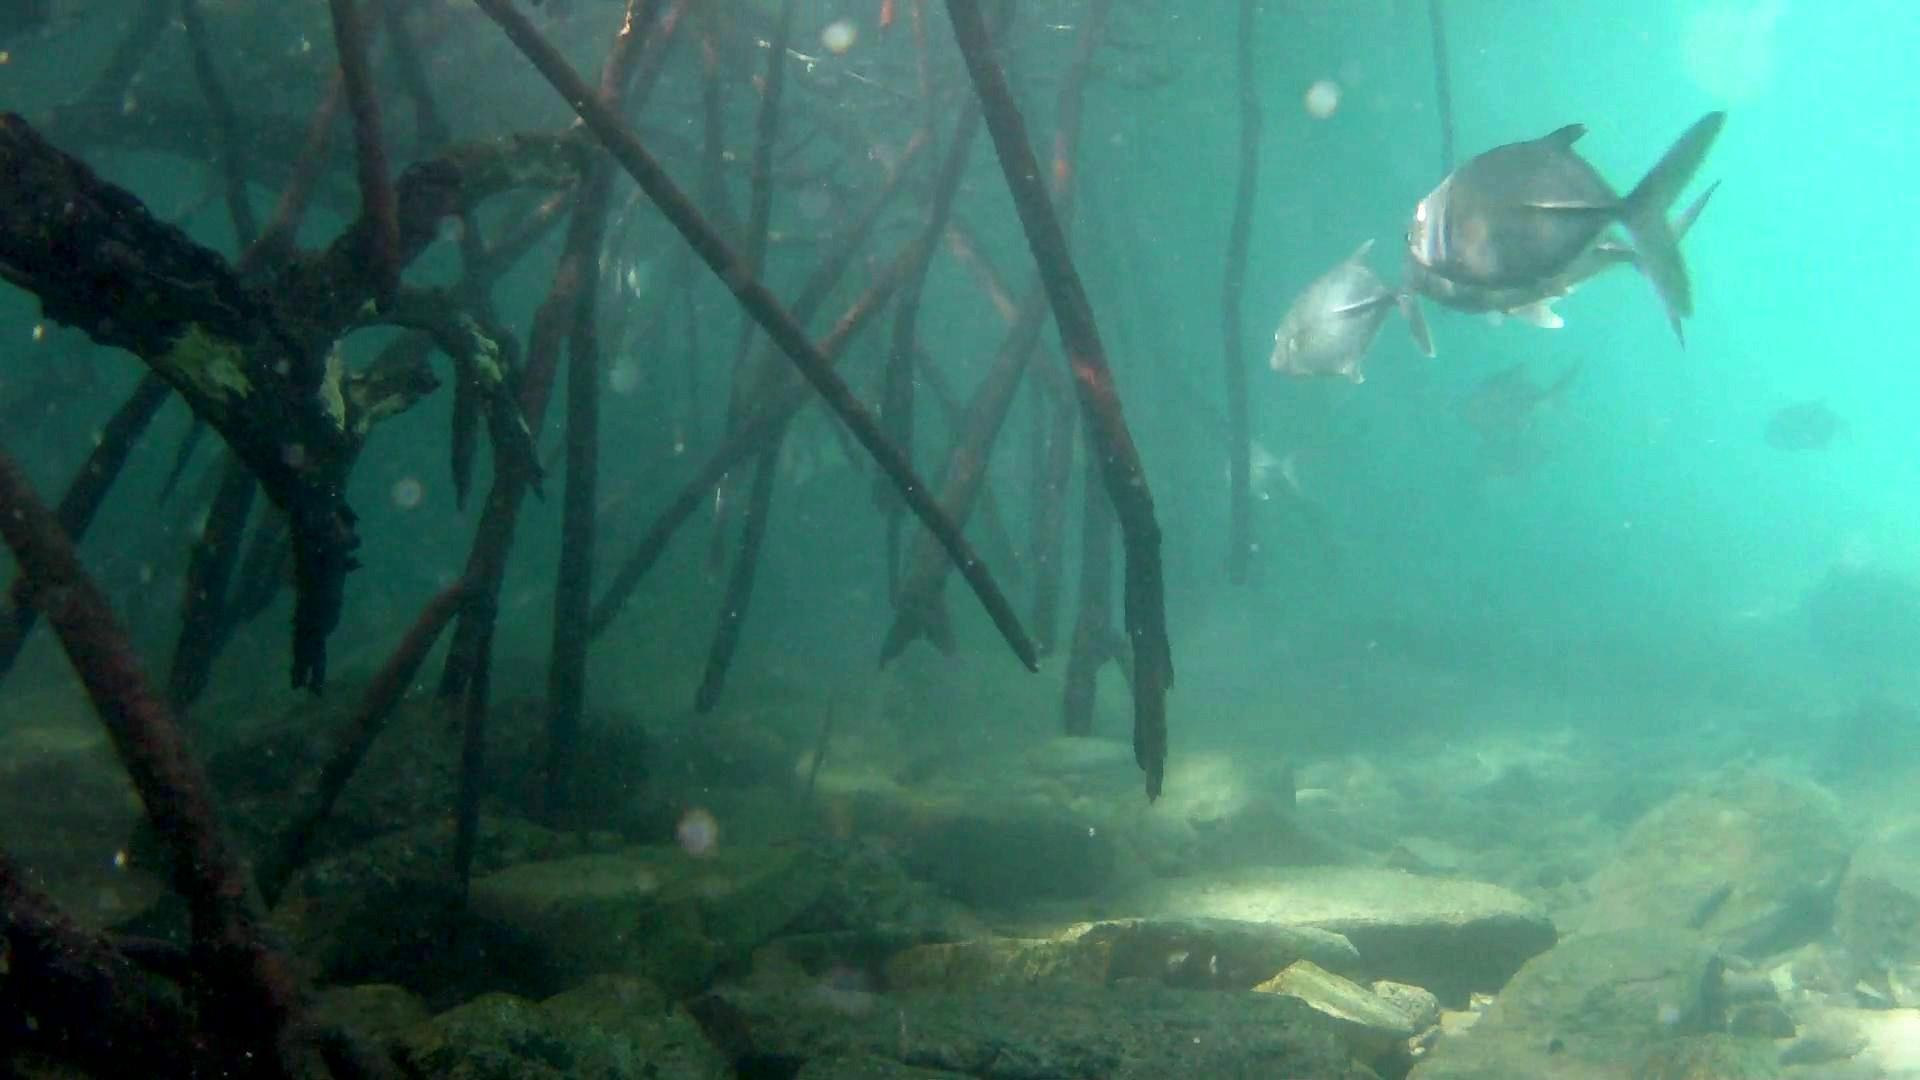caranx: (1410, 100, 1726, 329)
